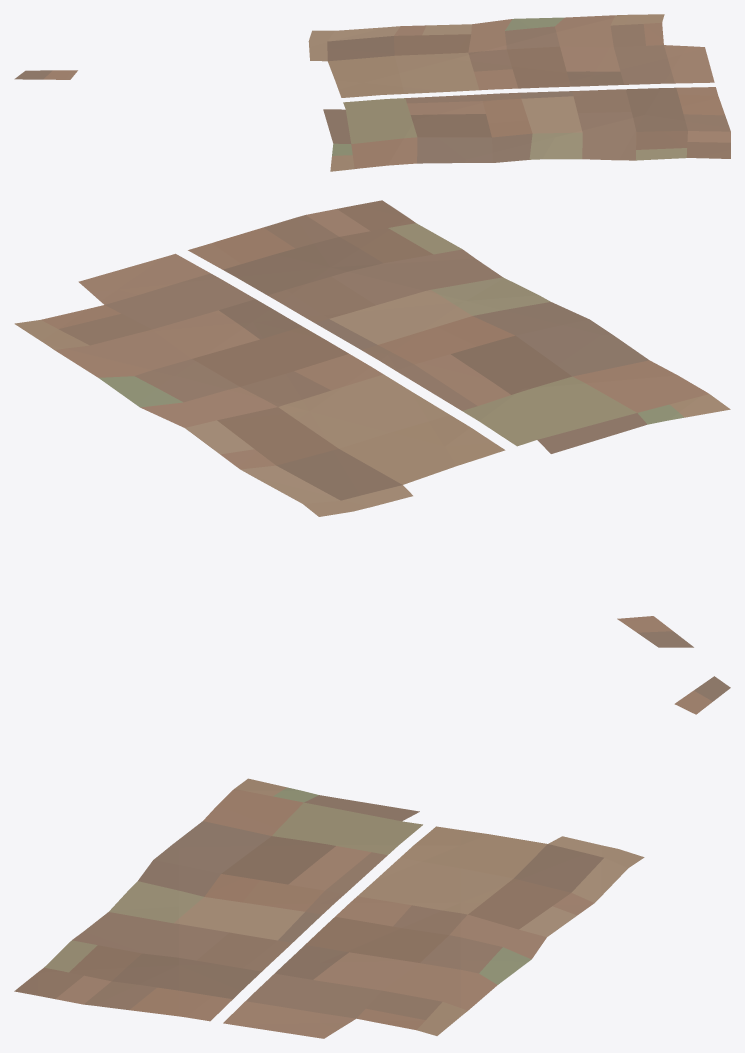
Rendered from farm_27_11_soil.glb.
The picture shows the model from 3 angles, top to bottom: view 1: azimuth 30°, elevation 25°; view 2: azimuth 150°, elevation 25°; view 3: azimuth 270°, elevation 25°; orthographic projection. The views are drawn at different scales.
Visible parts, largest first — view 1: geometry_0; view 2: geometry_0; view 3: geometry_0.
Boxes of the visible parts, x1,y1,x2,y2 form: geometry_0: [14, 14, 730, 171]; geometry_0: [14, 200, 730, 647]; geometry_0: [14, 676, 730, 1038].
Size of the model in its own units: 494 by 8.97 by 407.
